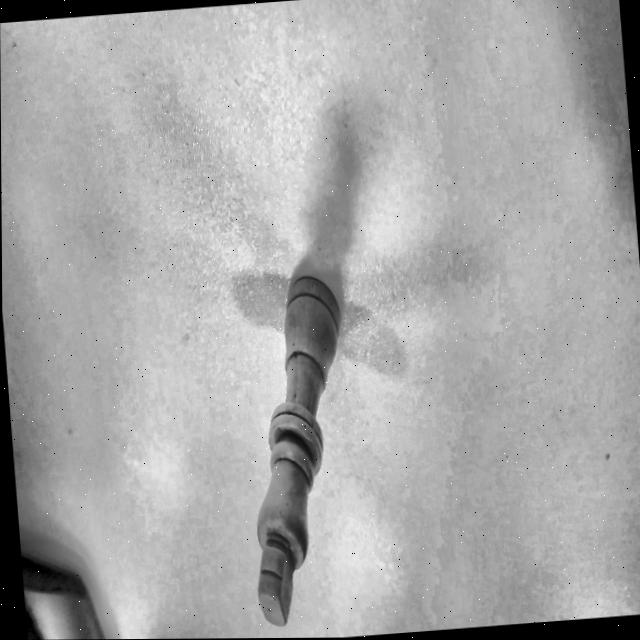white-king: (227, 246, 363, 638)
